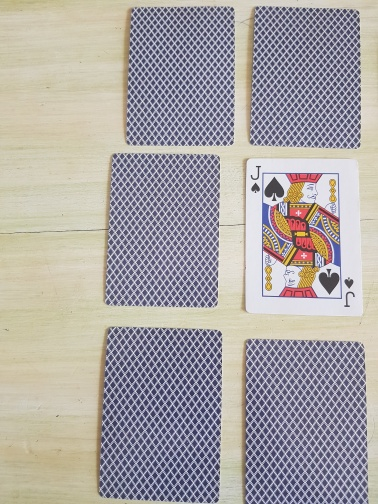jack: (243, 158, 364, 317)
